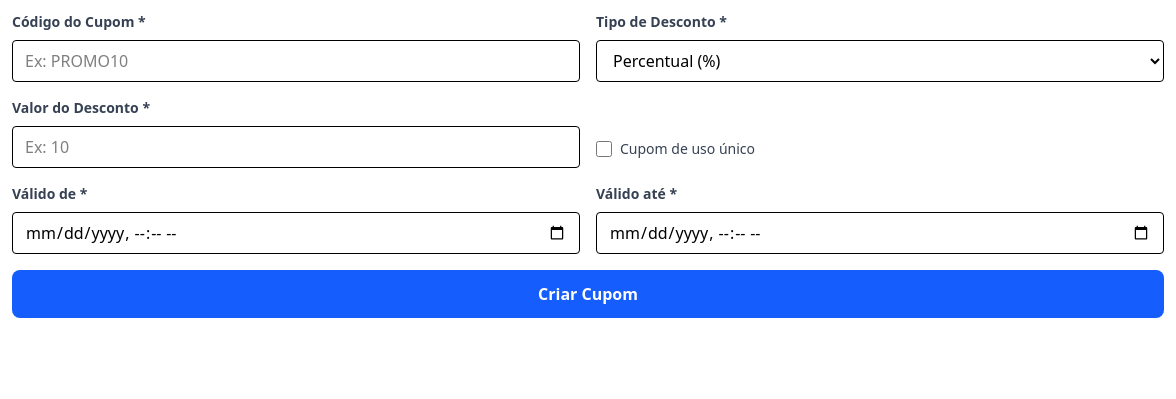
it: CouponForm › should show validation error for percentage over 100
Type "HUGE" into the field with placeholder "Ex: PROMO10" at coordinates (296, 61), box [12,40,580,82]
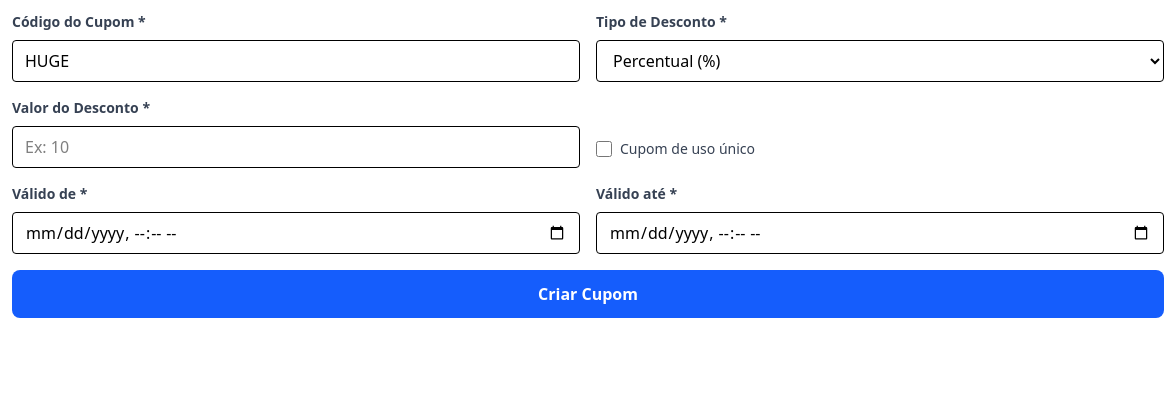
Type "150" into the number field with placeholder "Ex: 10" at coordinates (296, 147), box [12,126,580,168]
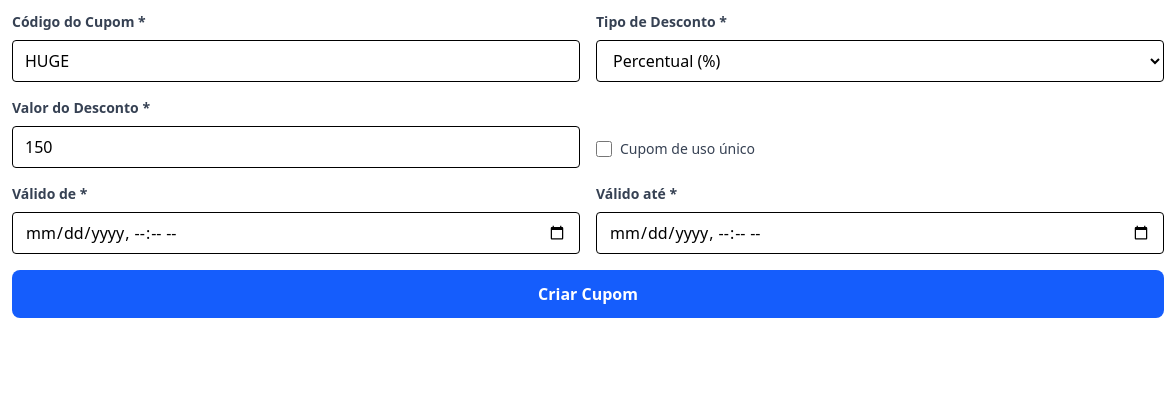
Type "2025-01-01T00:00" into the field labelled "Válido de *" at coordinates (296, 233), box [12,212,580,254]
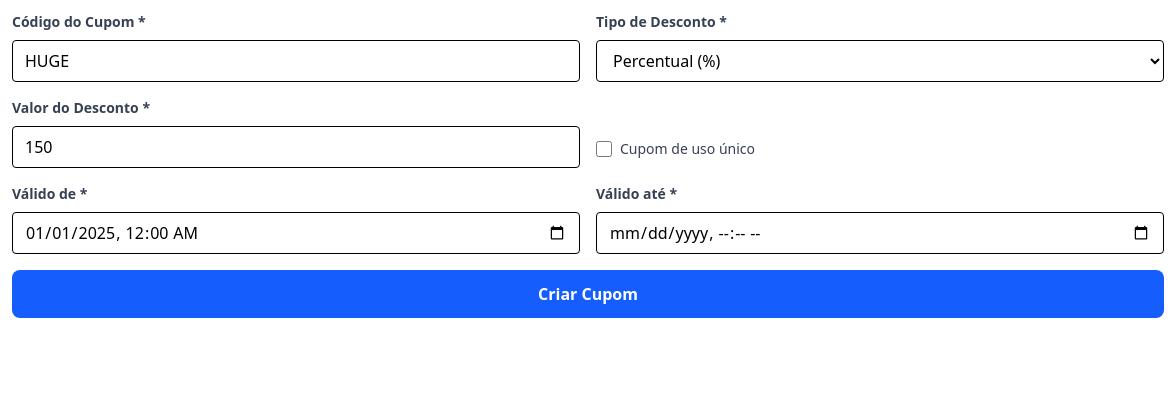
Type "2025-12-31T23:59" into the field labelled "Válido até *" at coordinates (880, 233), box [596,212,1164,254]
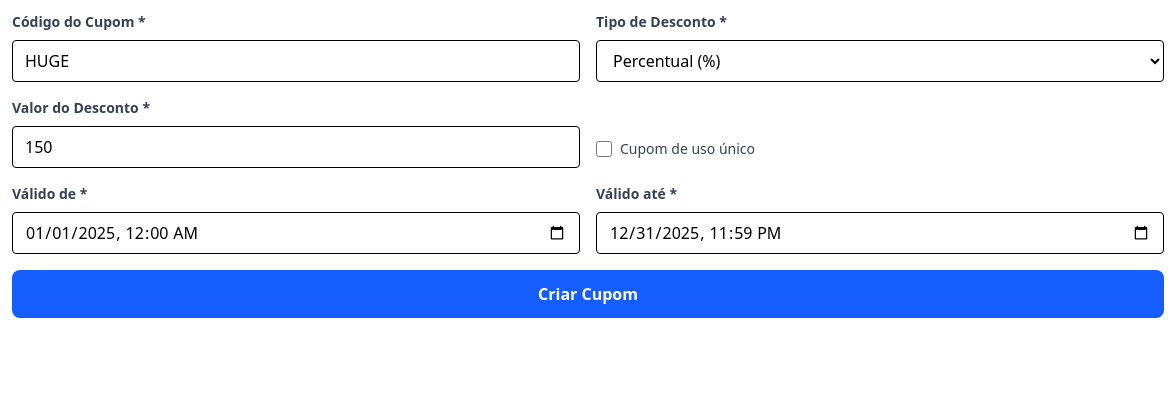
Click the button "Criar Cupom" at coordinates (588, 294), box [12,270,1164,318]
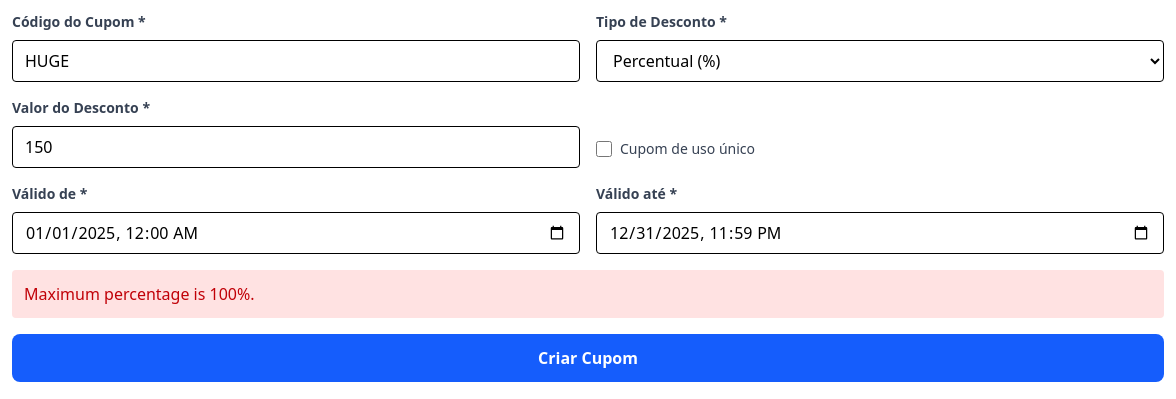
Now the text "Maximum percentage is 100%." is shown, box [12,270,1164,318]
